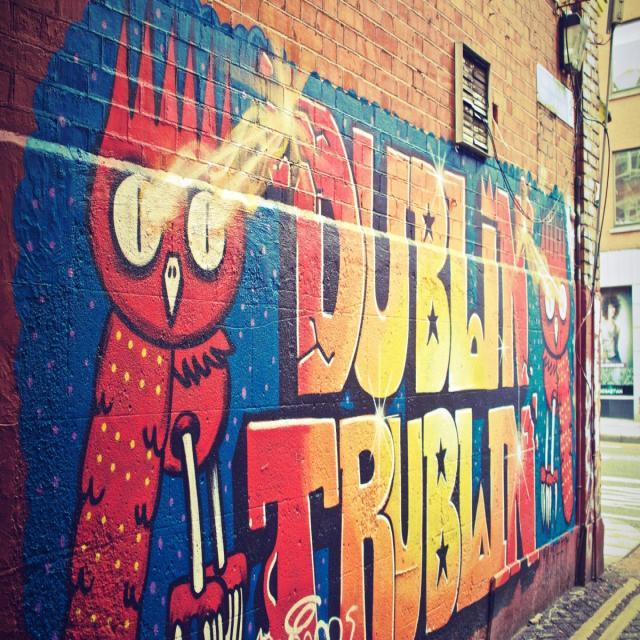-: (247, 99, 536, 640), (65, 14, 246, 640), (540, 216, 572, 532)
